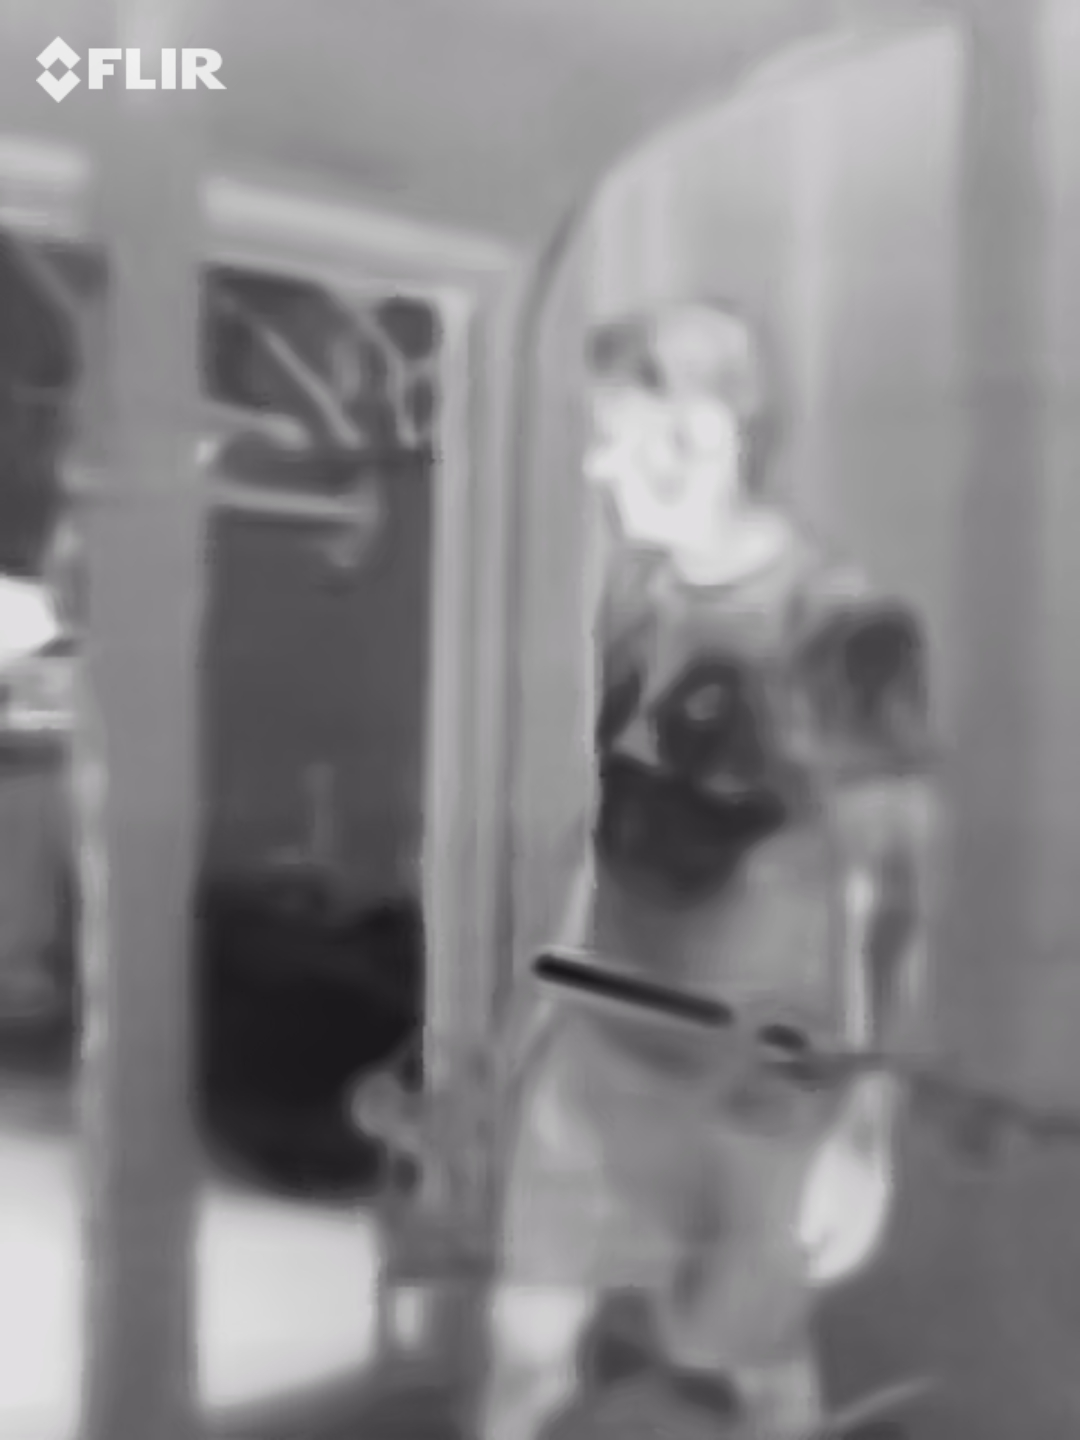head: (577, 301, 776, 550)
